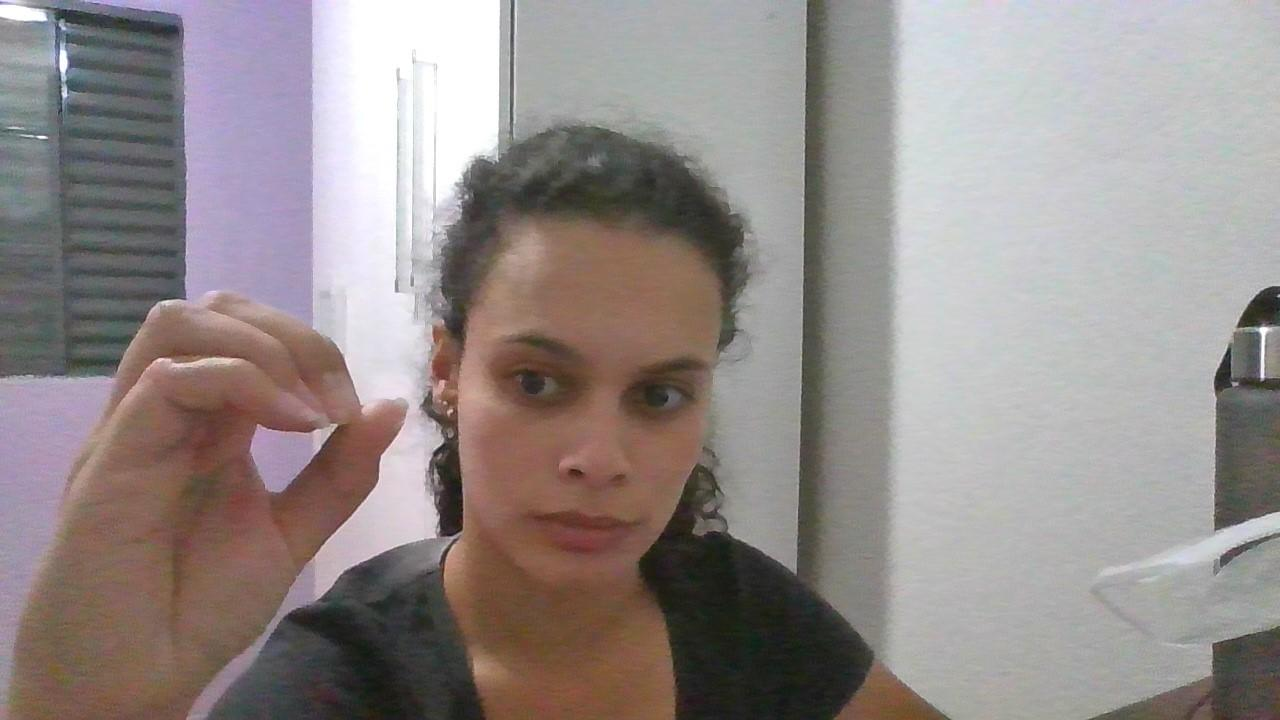O: (62, 278, 416, 672)
